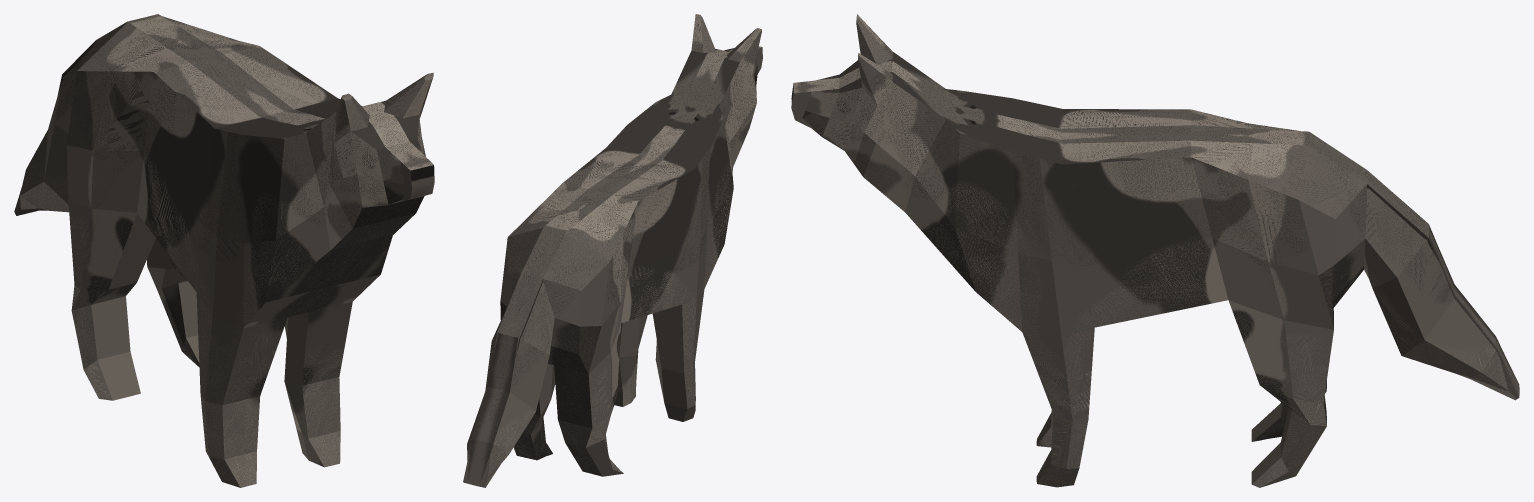
The model's file is Wolf.fbx.
The picture shows the model from 3 angles, left to right: view 1: azimuth 30°, elevation 25°; view 2: azimuth 150°, elevation 25°; view 3: azimuth 270°, elevation 25°; orthographic projection. The views are drawn at different scales.
Visible parts, largest first — view 1: Plane; view 2: Plane; view 3: Plane.
Part boxes in pixels (box(x1,y1,x2,y2)): Plane: box(14, 14, 434, 487); Plane: box(463, 14, 762, 487); Plane: box(791, 14, 1519, 487).
Size of the model in its own units: 78.74 by 244 by 377.
1 material, 1 textured.
